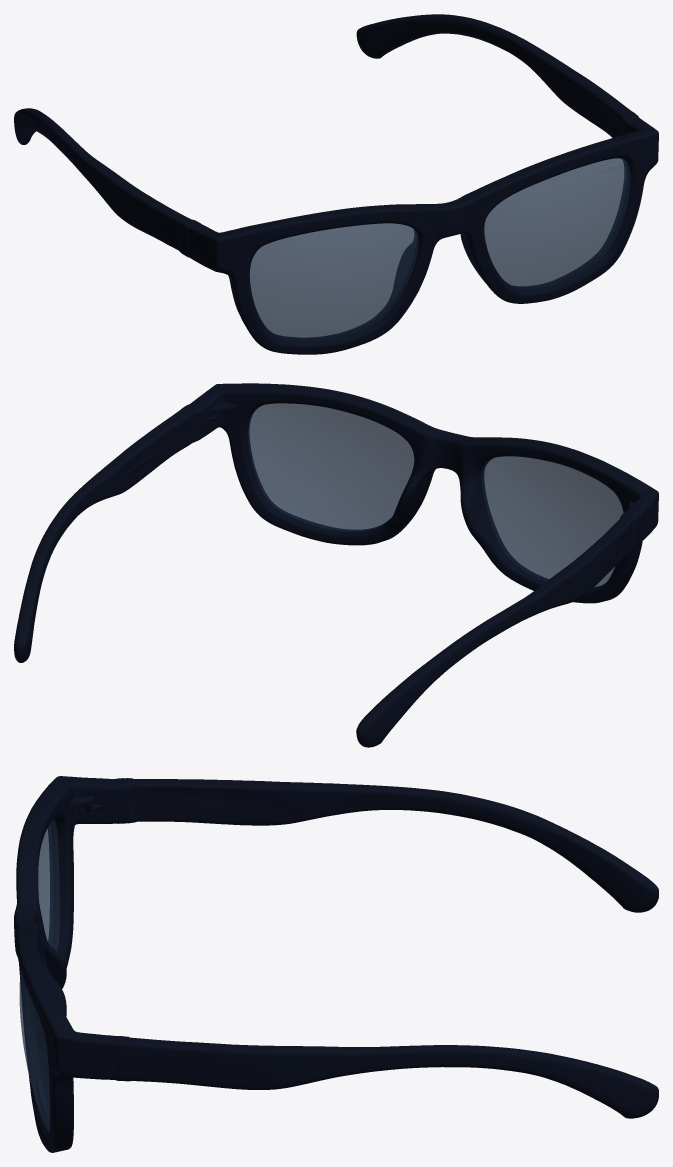
File: head-blue.glb
3 renders of one model, top to bottom at view 1: azimuth 30°, elevation 25°; view 2: azimuth 150°, elevation 25°; view 3: azimuth 270°, elevation 25°, orthographic. The views are drawn at different scales.
Parts seen in each view (by area): view 1: part_6, part_4; view 2: part_6, part_4; view 3: part_6, part_4.
Part boxes in pixels (box(x1,y1,x2,y2)): part_6: box(14, 14, 658, 354); part_4: box(249, 158, 630, 340); part_6: box(14, 383, 658, 747); part_4: box(247, 403, 623, 588); part_6: box(14, 776, 658, 1152); part_4: box(19, 819, 59, 1131).
Size of the model in its own units: 0.9127 by 0.2706 by 0.9146.
